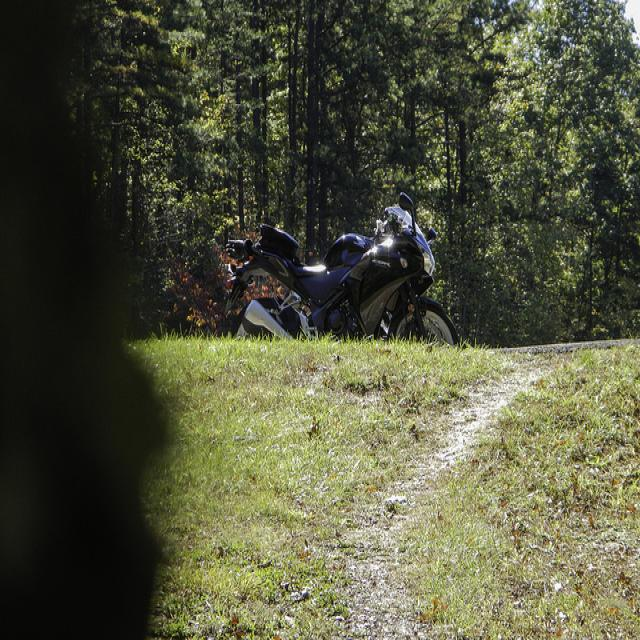motor: (224, 192, 461, 346)
